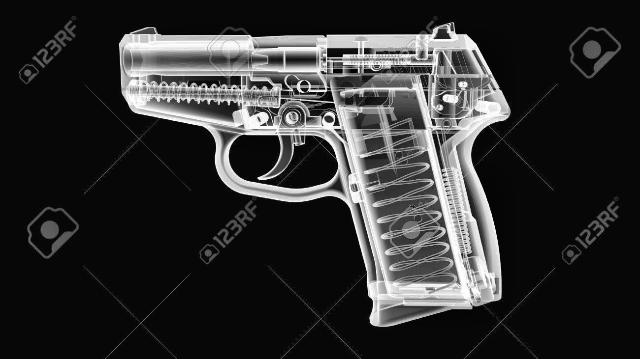pistol: (118, 24, 504, 328)
